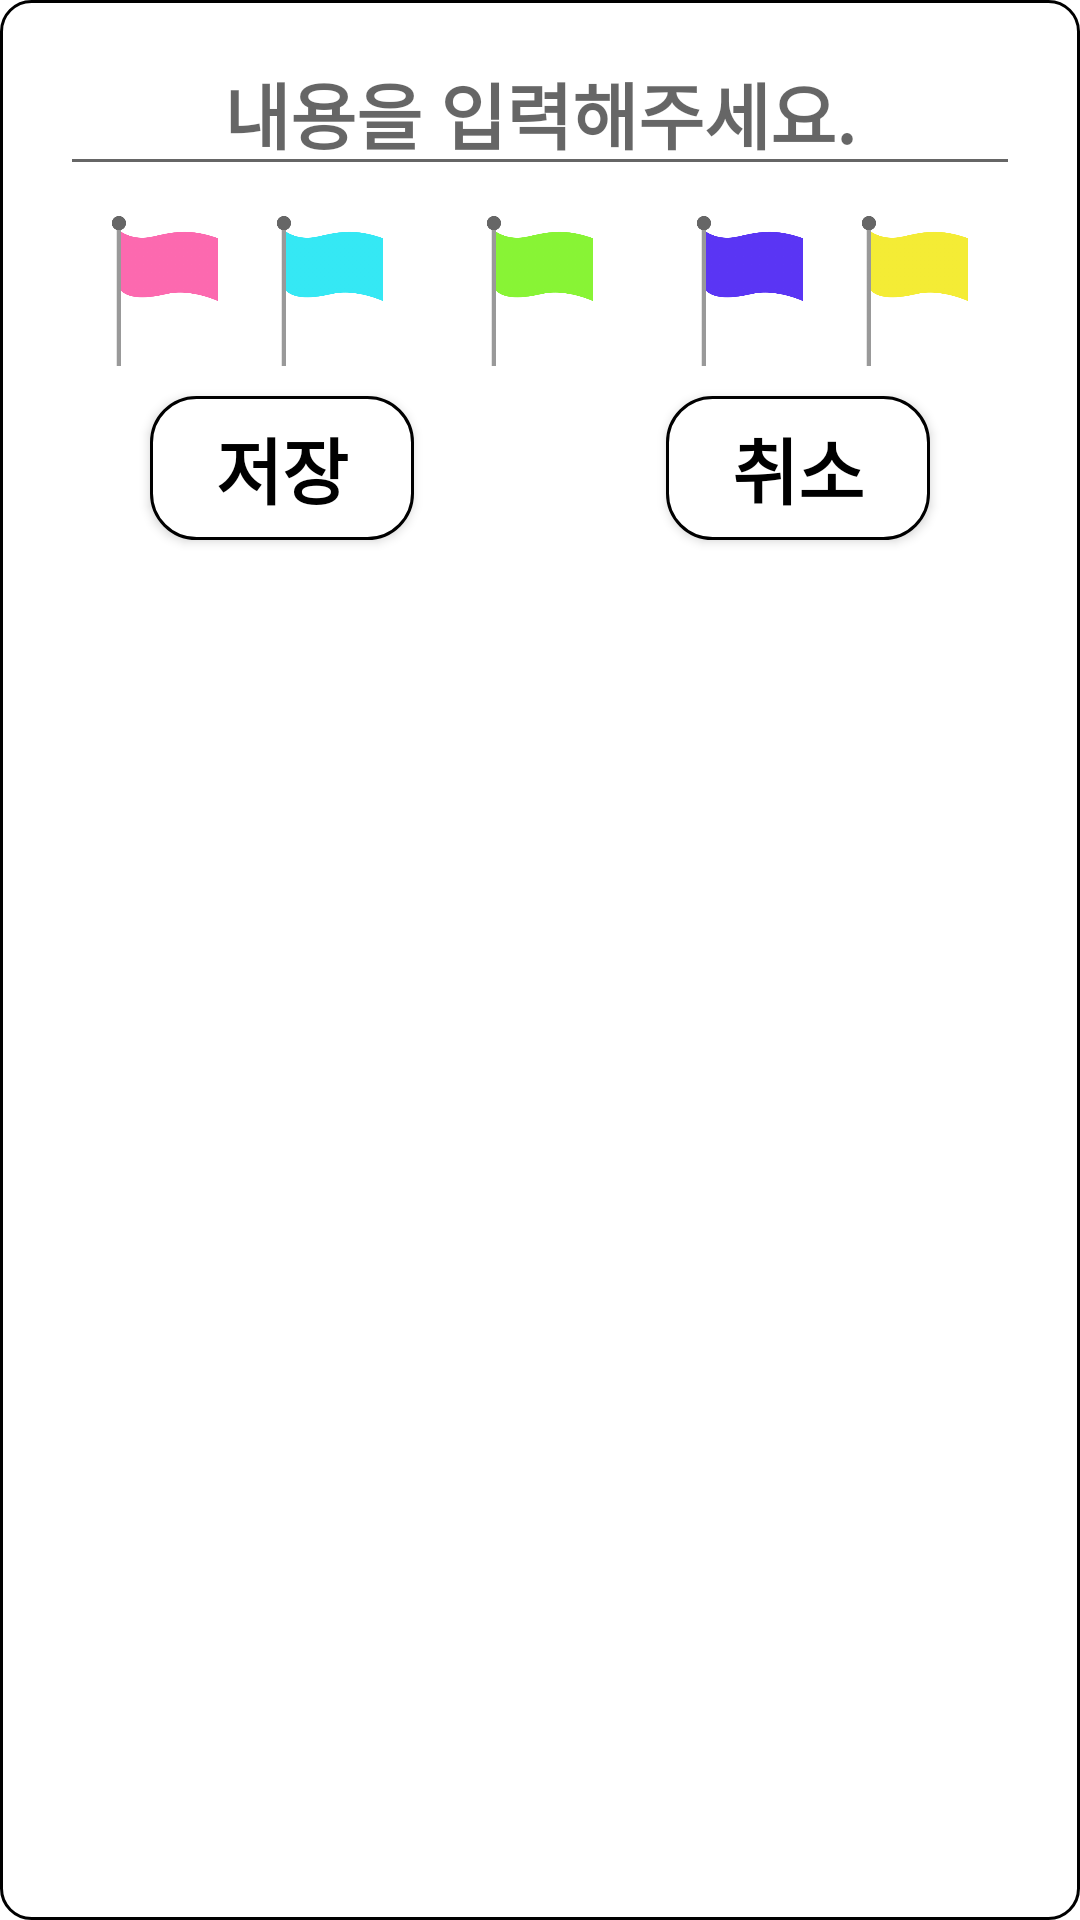

Icon bounding boxes for this 1080×1920 phone screenshot, format (x1, y1, x2, y2):
flag: (112, 216, 218, 366), (277, 216, 383, 366), (487, 216, 593, 366), (697, 216, 803, 366), (862, 216, 968, 366)
